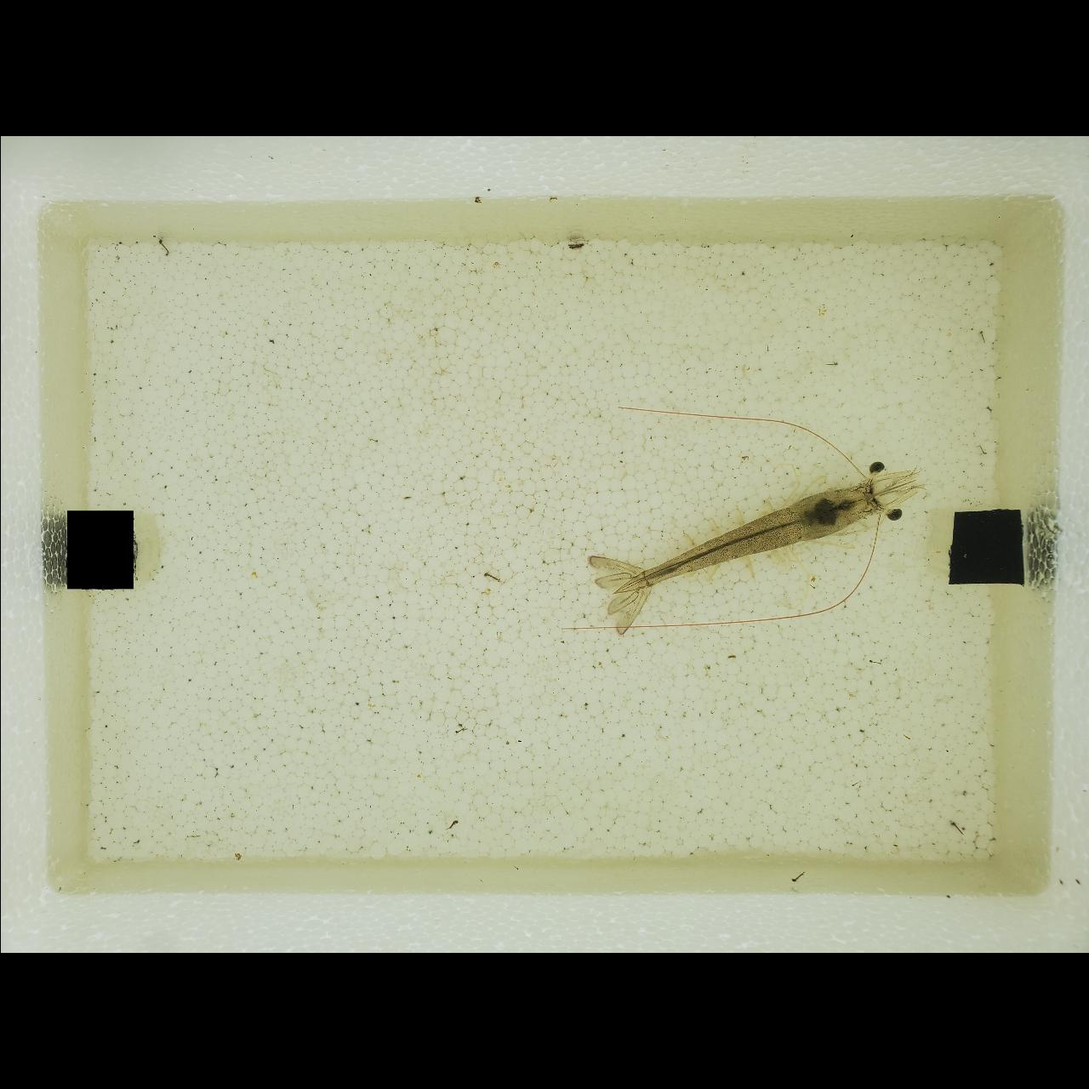box: (946, 509, 1024, 590), (63, 512, 135, 592)
top_shrimp: (610, 481, 877, 595)
